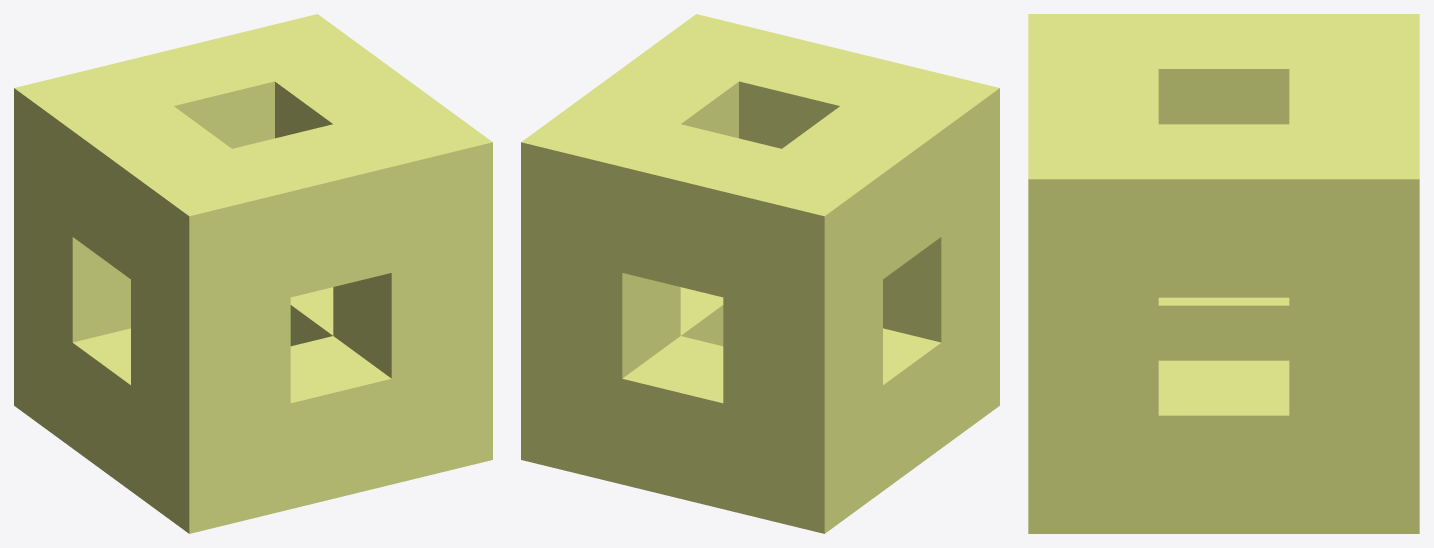
File: Sponge.gltf
3 views of the same model, side by side, from view 1: azimuth 30°, elevation 25°; view 2: azimuth 150°, elevation 25°; view 3: azimuth 270°, elevation 25° (orthographic). The views are drawn at different scales.
Parts seen in each view (by area): view 1: Sponge; view 2: Sponge; view 3: Sponge.
Boxes of the visible parts, x1,y1,x2,y2 form: Sponge: (14,14,492,533); Sponge: (521,14,999,533); Sponge: (1028,14,1419,533).
Size of the model in its own units: 2 by 2 by 2.
